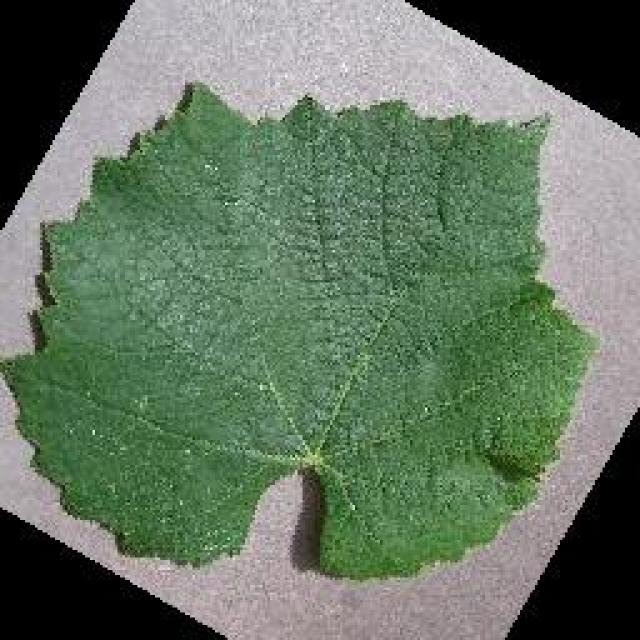Grape___healthy: (8, 88, 588, 575)
